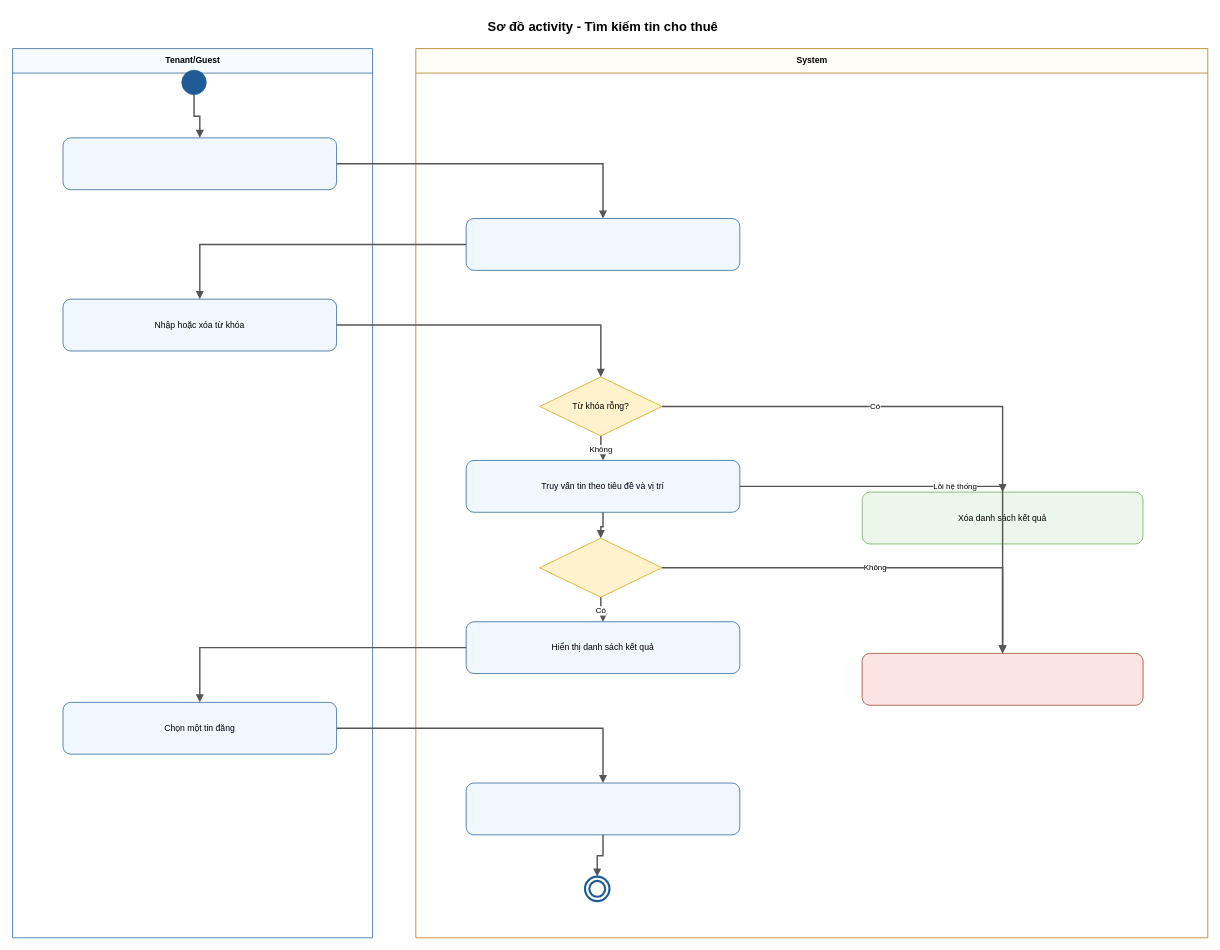
The diagram is 1220 pixels wide and 950 high, and some of its shapes have lost their labels. Here are the shapes that lost their labels. From the top down, the centre of each, then its label:
At pixel 199 163: "Mở màn hình tìm kiếm".
At pixel 602 244: "Hiển thị ô nhập từ khóa".
At pixel 600 567: "Có kết quả phù hợp?".
At pixel 1002 679: "Hiển thị lỗi khi truy vấn dữ liệu".
At pixel 602 808: "Hiển thị chi tiết tin".
